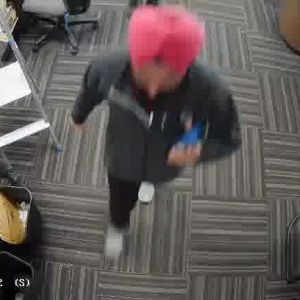person: (92, 0, 240, 262)
